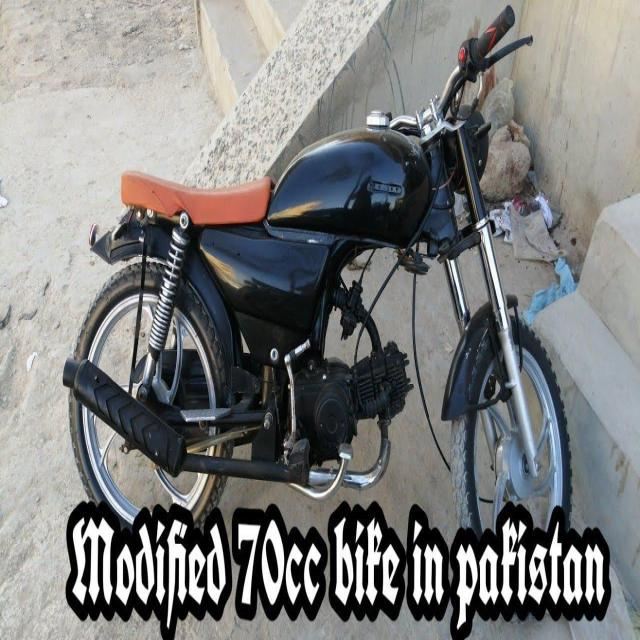motorcycle: (48, 0, 602, 562)
